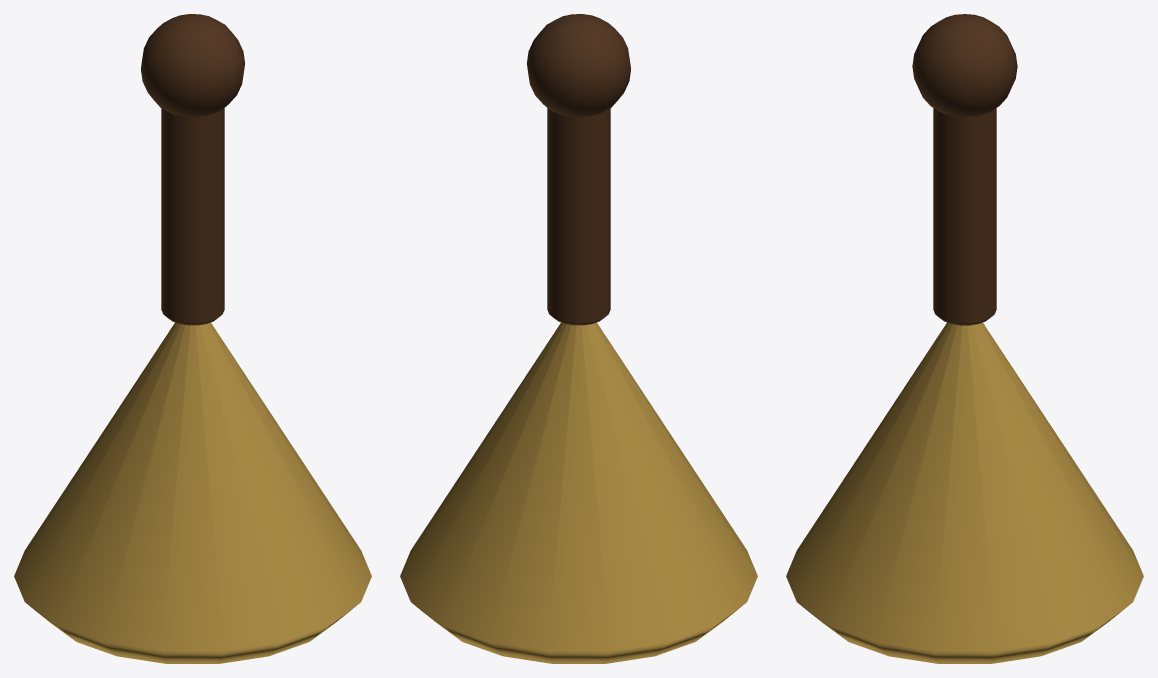
File: handbell.9e030913.glb
3 views of the same model, side by side, from view 1: azimuth 30°, elevation 25°; view 2: azimuth 150°, elevation 25°; view 3: azimuth 270°, elevation 25° (orthographic).
Visible parts, largest first — view 1: body; view 2: body; view 3: body.
Boxes of the visible parts, left/top/right/bottom form: body: left=14, top=14, right=371, bottom=663; body: left=400, top=14, right=757, bottom=663; body: left=786, top=14, right=1143, bottom=663.
Bounding box in the file's own units: 0.3348 × 0.61 × 0.34.
